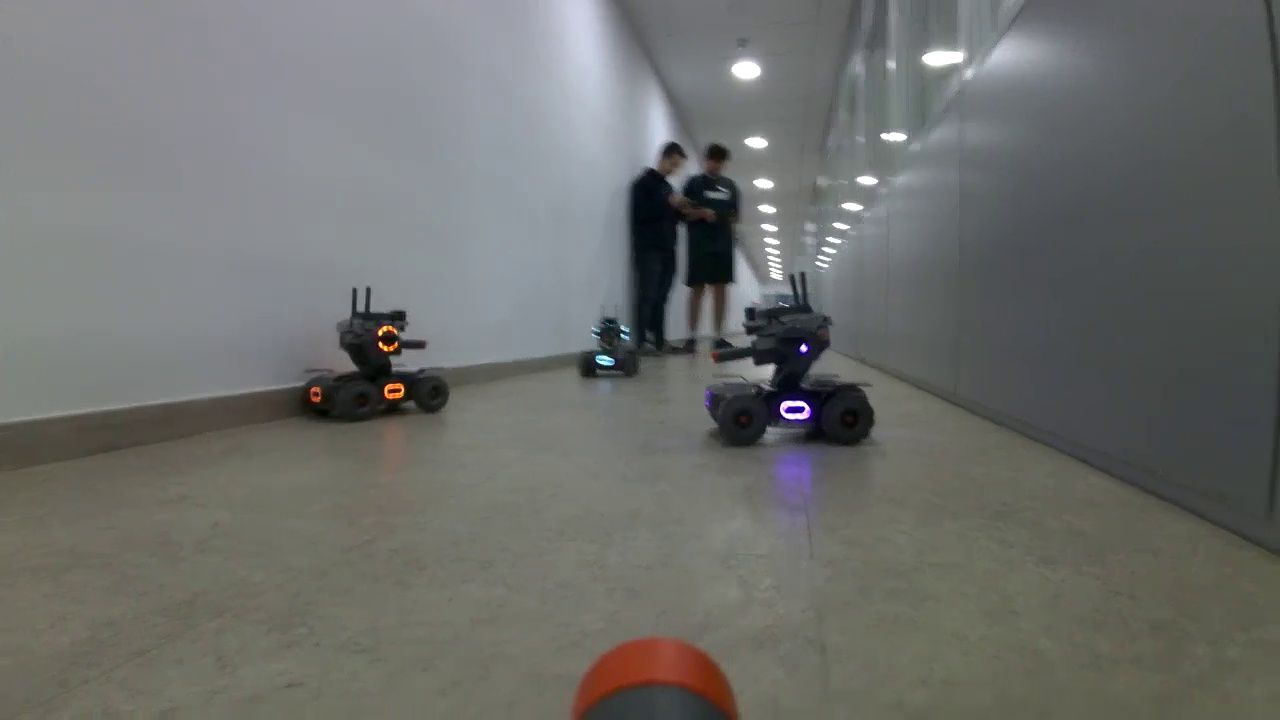robot: (703, 305, 876, 447), (299, 309, 454, 425), (576, 319, 640, 381)
